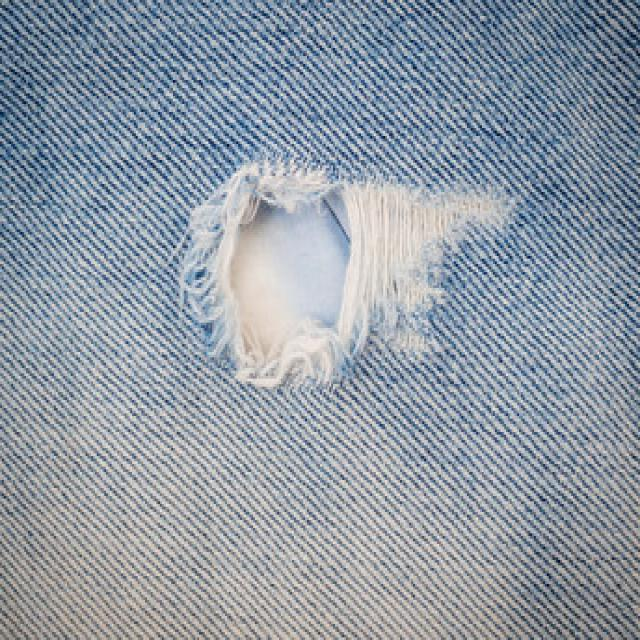Hole: (179, 160, 513, 387)
